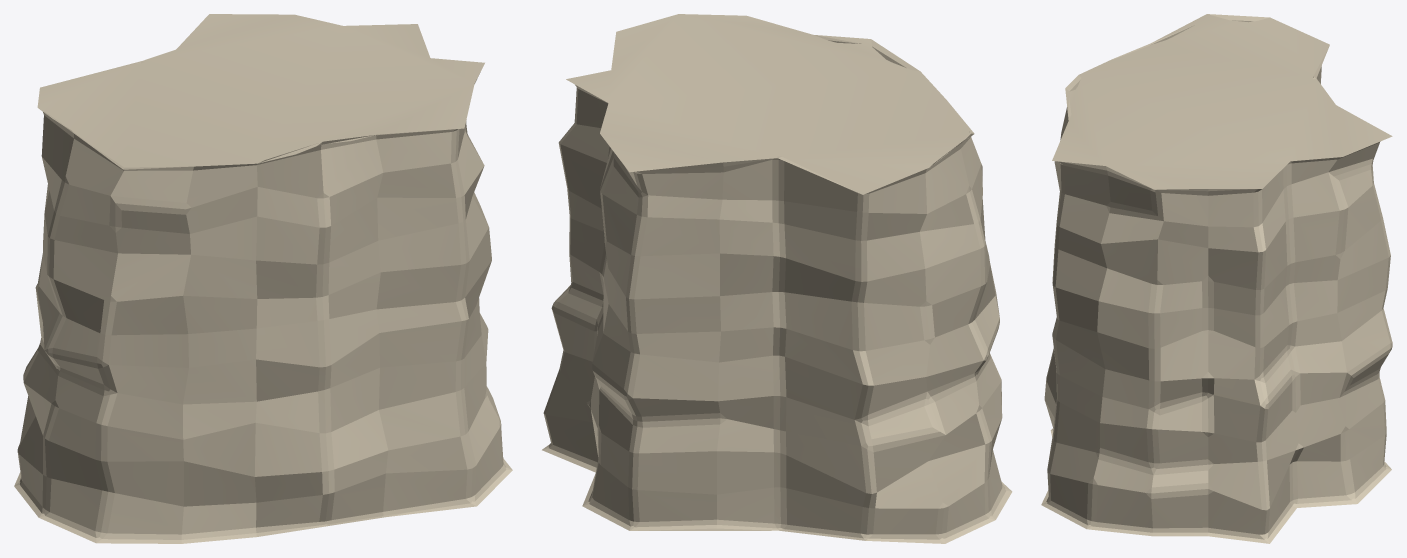
The model's file is limestone_cliff.glb.
3 renders of one model, left to right at view 1: azimuth 30°, elevation 25°; view 2: azimuth 150°, elevation 25°; view 3: azimuth 270°, elevation 25°, orthographic. The views are drawn at different scales.
Visible parts, largest first — view 1: Stratified limestone; view 2: Stratified limestone; view 3: Stratified limestone.
Part boxes in pixels (box(x1,y1,x2,y2)): Stratified limestone: box(14, 14, 512, 543); Stratified limestone: box(542, 14, 1012, 543); Stratified limestone: box(1041, 14, 1392, 543).
Bounding box in the file's own units: 2.02 × 1.76 × 1.58.
